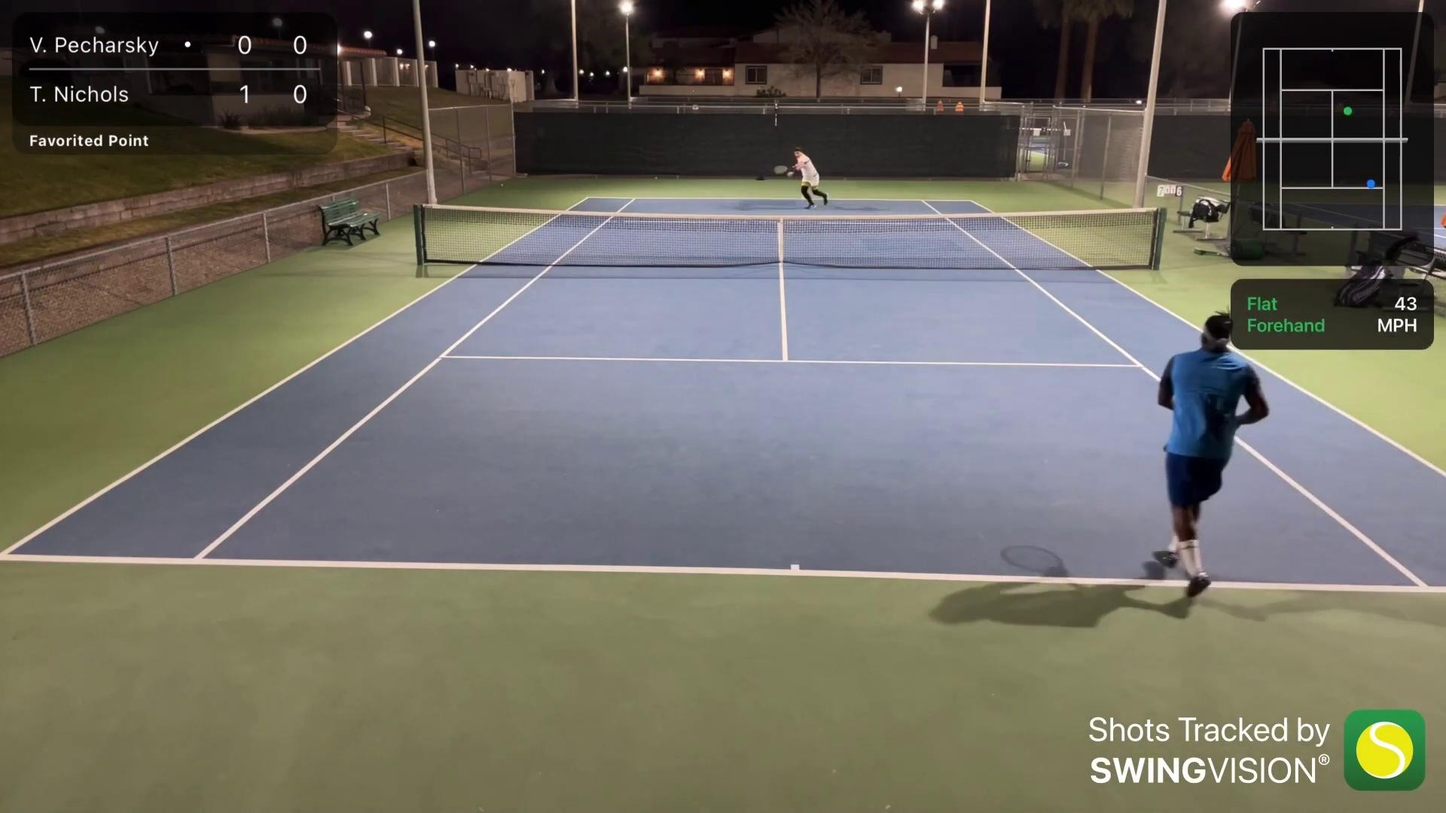ball: (786, 170, 795, 177), (498, 181, 505, 189), (653, 176, 658, 181)
